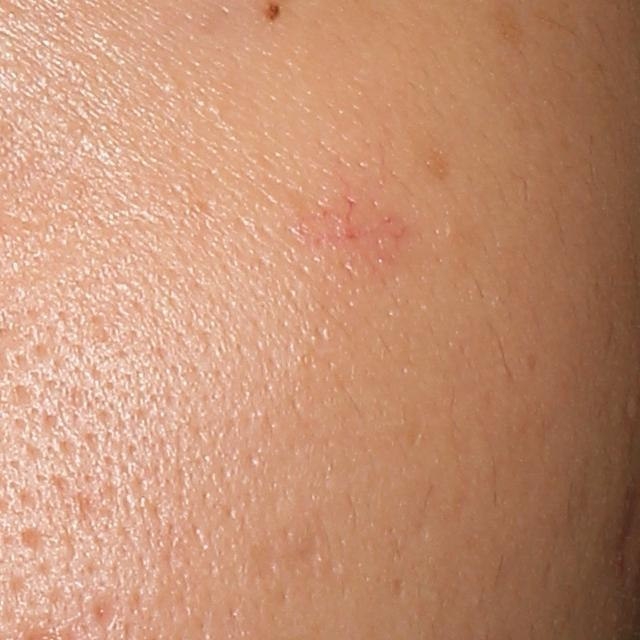melasma: (249, 523, 328, 611), (416, 144, 456, 184)
